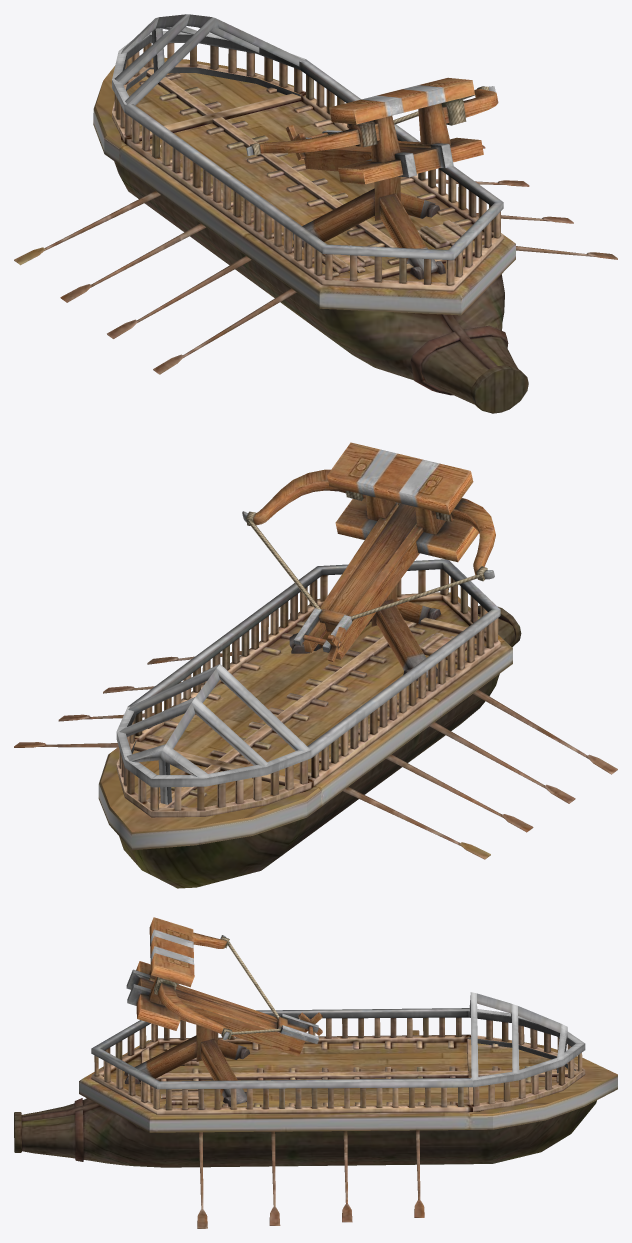
Rendered from 212-juggernaut.glb.
3 renders of one model, top to bottom at view 1: azimuth 30°, elevation 25°; view 2: azimuth 150°, elevation 25°; view 3: azimuth 270°, elevation 25°, orthographic. The views are drawn at different scales.
Bounding box in the file's own units: 4.85 × 2.71 × 6.64.
2 materials, 2 textured.
